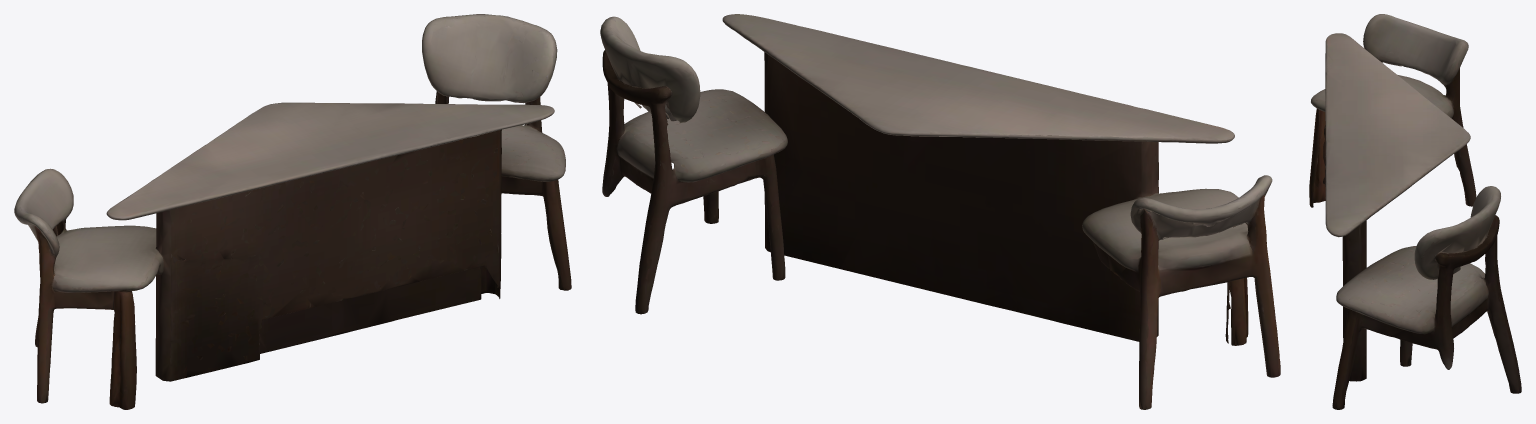
File: vhaus-c9060-chair.glb
3 views of the same model, side by side, from view 1: azimuth 30°, elevation 25°; view 2: azimuth 150°, elevation 25°; view 3: azimuth 270°, elevation 25° (orthographic). The views are drawn at different scales.
Parts seen in each view (by area): view 1: geometry_0; view 2: geometry_0; view 3: geometry_0.
Boxes of the visible parts, x1=… form: geometry_0: x1=14, y1=14, x2=571, y2=409; geometry_0: x1=600, y1=14, x2=1280, y2=409; geometry_0: x1=1309, y1=14, x2=1521, y2=409.
Bounding box in the file's own units: 0.9996 × 0.3747 × 0.3615.
Materials: 1 (1 with a texture image).
